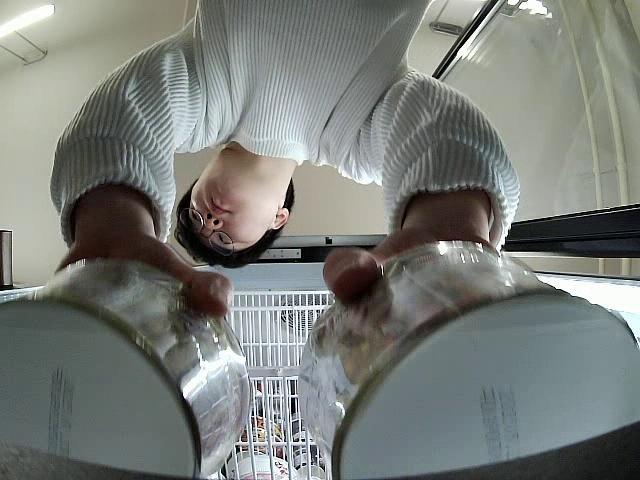03_chapagetti_L: (297, 240, 640, 480), (0, 257, 253, 480)
